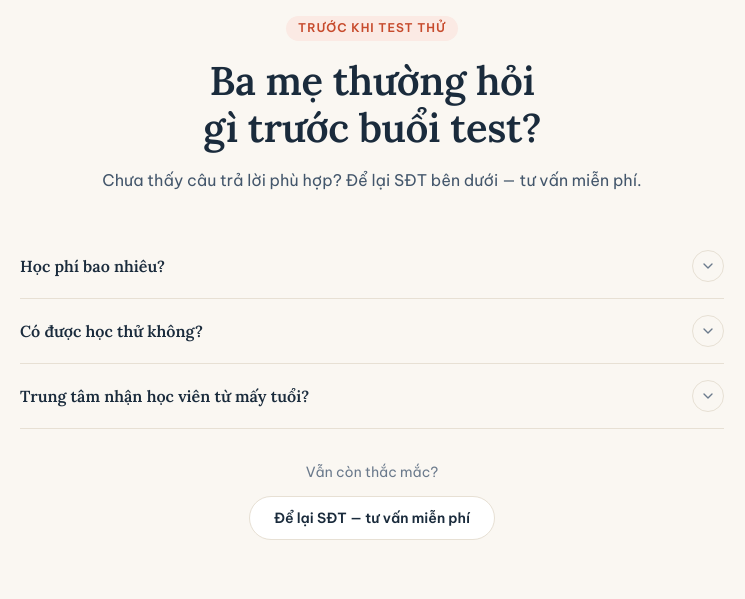
Test: FAQ accordion › collapses an open answer when its question is clicked again
This screenshot has width=745, height=599.
Click the button "Trung tâm nhận học viên từ mấy tuổi?".
click(165, 396)  # box [20,364,724,428]
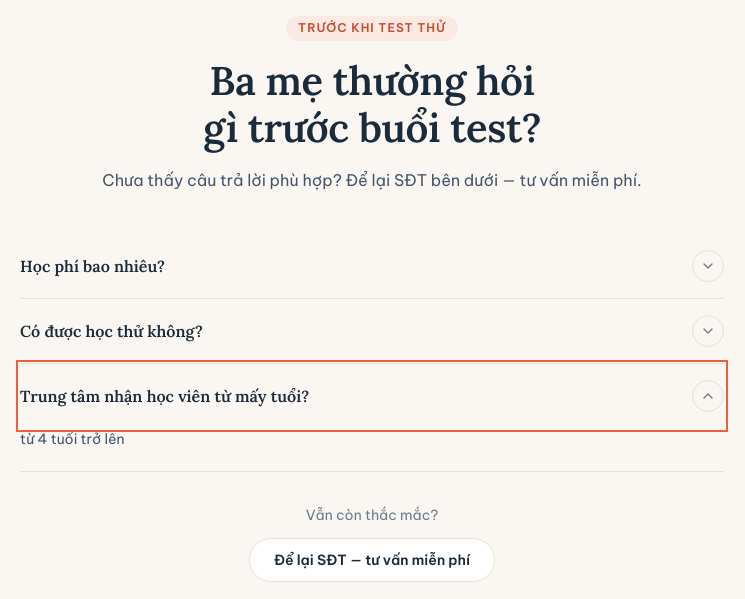
Result: the text "từ 4 tuổi trở lên" is shown at [20,430,125,448]
Click the button "Trung tâm nhận học viên từ mấy tuổi?".
click(165, 396)  # box [20,364,724,428]
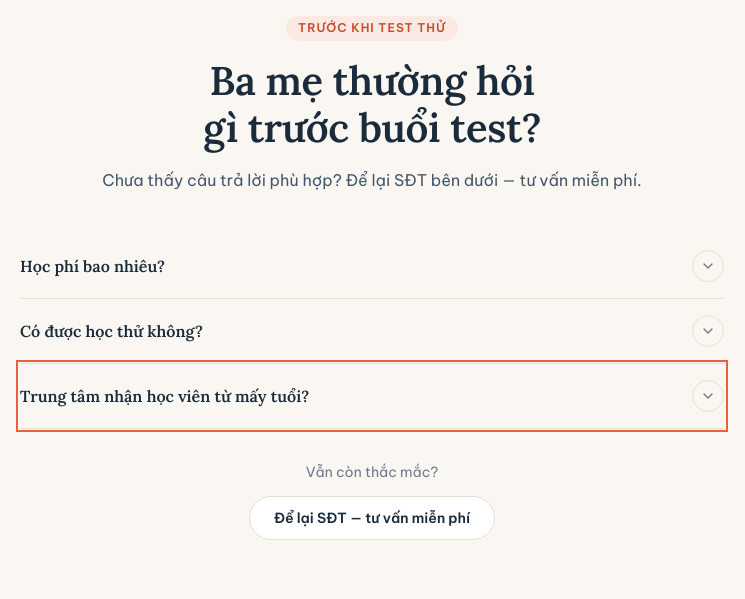
Result: the text "từ 4 tuổi trở lên" is gone
